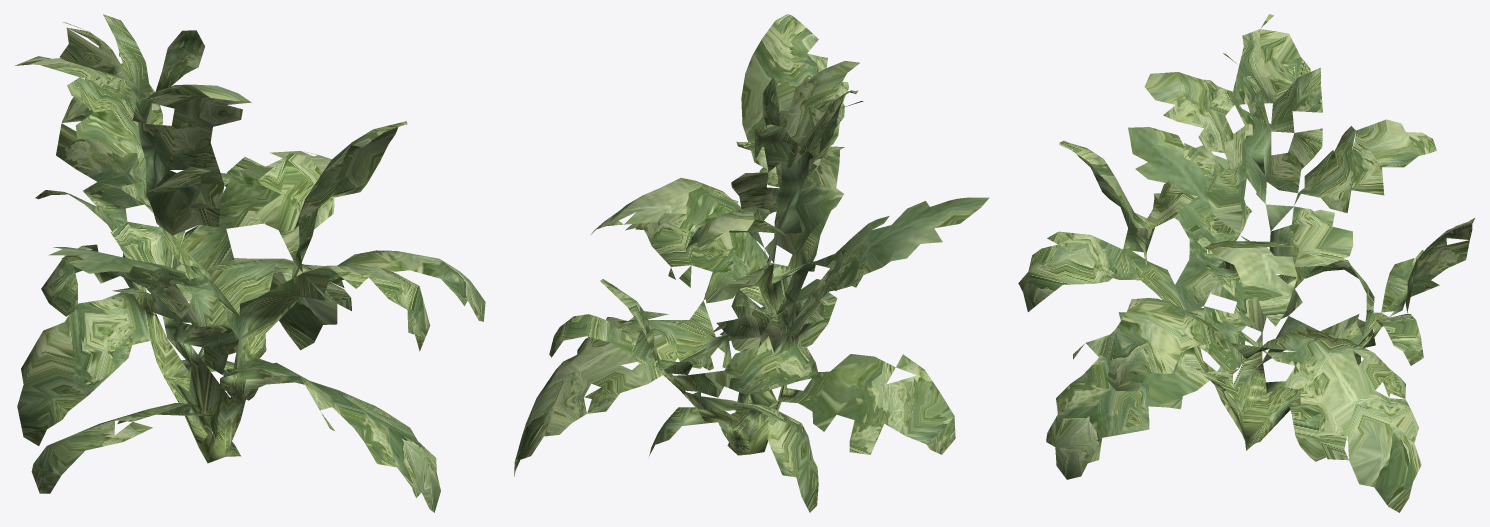
The model's file is lingcao_ninglu_mature.obj.
3 views of the same model, side by side, from view 1: azimuth 30°, elevation 25°; view 2: azimuth 150°, elevation 25°; view 3: azimuth 270°, elevation 25° (orthographic). The views are drawn at different scales.
Parts seen in each view (by area): view 1: lingcao_ninglu_mature; view 2: lingcao_ninglu_mature; view 3: lingcao_ninglu_mature.
Part boxes in pixels (x1=…): lingcao_ninglu_mature: x1=15, y1=14, x2=485, y2=512; lingcao_ninglu_mature: x1=514, y1=14, x2=989, y2=512; lingcao_ninglu_mature: x1=1018, y1=14, x2=1474, y2=512.
Size of the model in its own units: 0.2871 by 0.3142 by 0.3476.
Materials: 1 (1 with a texture image).
